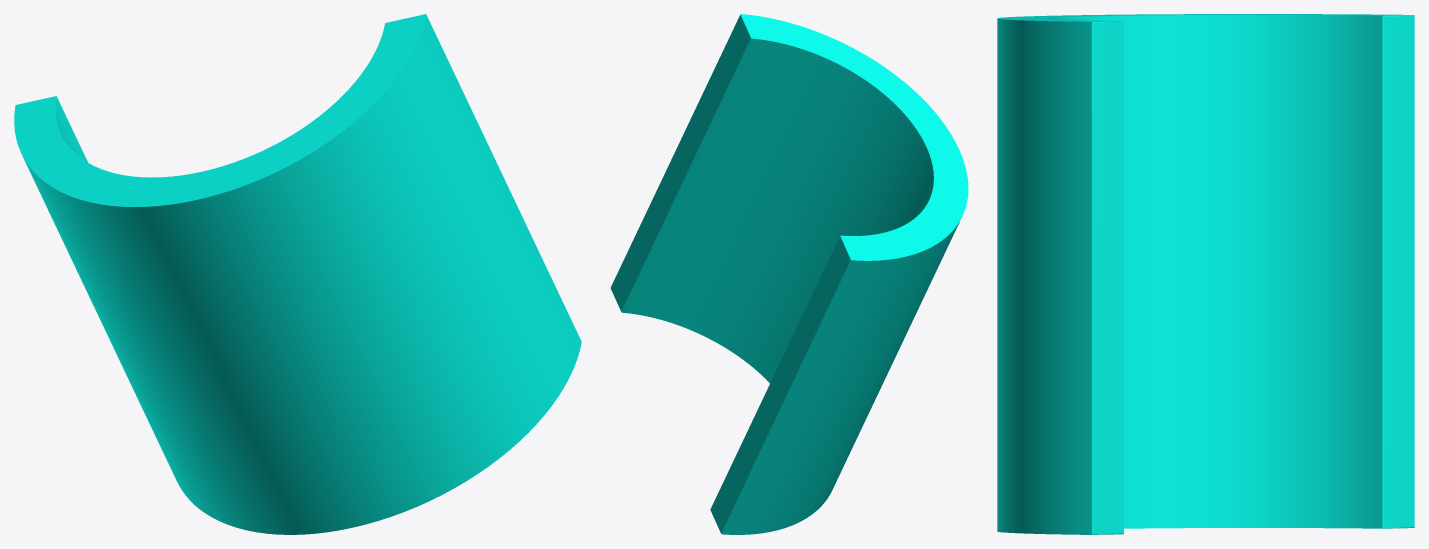
Rendered from halfpipe.gltf.
The picture shows the model from 3 angles, left to right: view 1: azimuth 30°, elevation 25°; view 2: azimuth 150°, elevation 25°; view 3: azimuth 270°, elevation 25°; orthographic projection. The views are drawn at different scales.
Visible parts, largest first — view 1: Half Pipe; view 2: Half Pipe; view 3: Half Pipe.
Boxes of the visible parts, x1,y1,x2,y2 form: Half Pipe: [14, 14, 581, 534]; Half Pipe: [610, 14, 968, 534]; Half Pipe: [997, 14, 1414, 534].
Bounding box in the file's own units: 0.2435 × 0.2549 × 0.1627.
